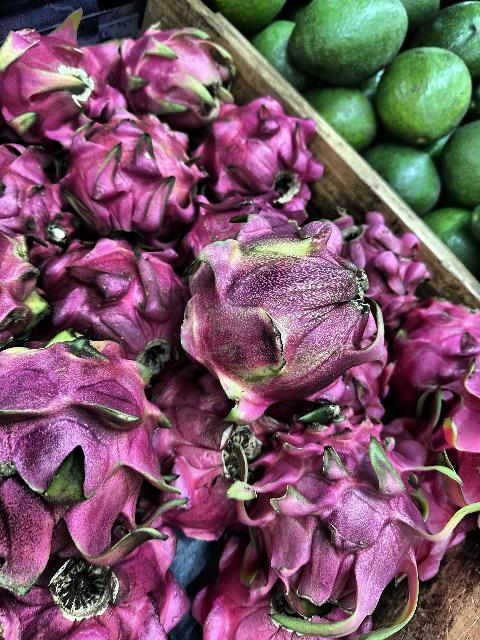buah-naga-belum-matang: (178, 206, 386, 398)
buah-naga-matang: (247, 402, 443, 626), (0, 325, 168, 569), (1, 524, 185, 640), (44, 240, 186, 372), (145, 374, 257, 540), (75, 114, 199, 238), (0, 18, 126, 134), (195, 96, 320, 210), (392, 300, 480, 448), (118, 32, 228, 128), (0, 145, 88, 249), (340, 214, 422, 316)
